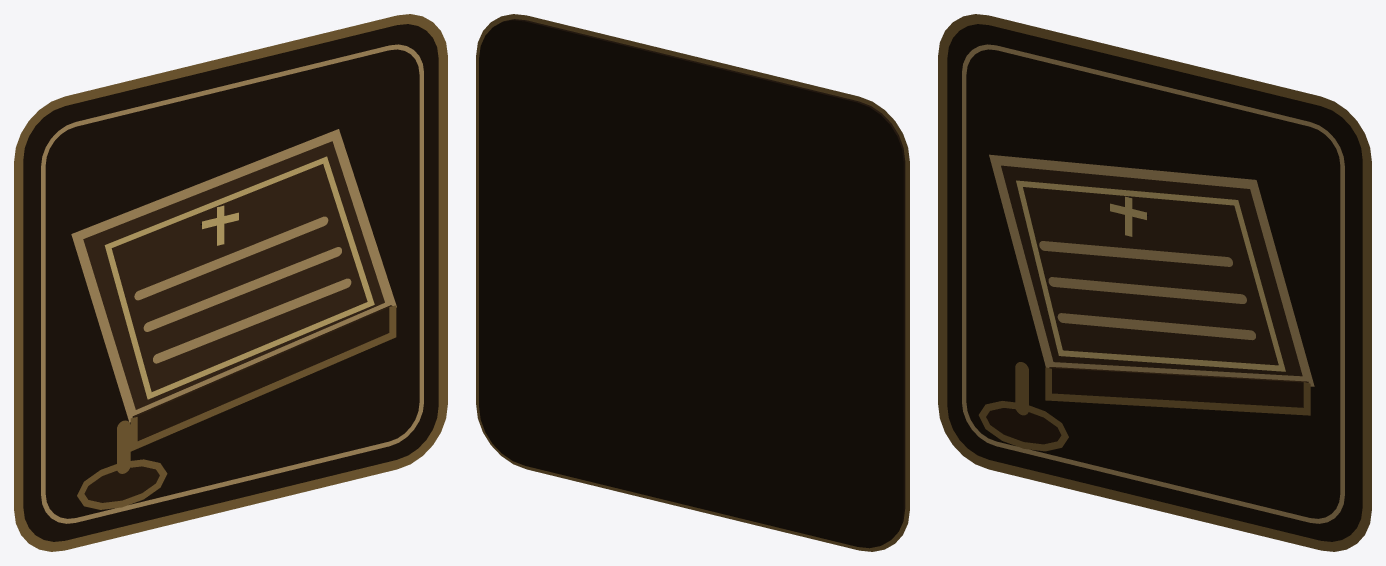
The model's file is obj-pechatnaya-doska.glb.
The picture shows the model from 3 angles, left to right: view 1: azimuth 30°, elevation 25°; view 2: azimuth 150°, elevation 25°; view 3: azimuth 330°, elevation 25°; orthographic projection.
Parts seen in each view (by area): view 1: obj-pechatnaya-doska; view 2: obj-pechatnaya-doska; view 3: obj-pechatnaya-doska.
Part boxes in pixels (x1,y1,x2,y2): obj-pechatnaya-doska: (14, 14, 447, 551); obj-pechatnaya-doska: (476, 14, 909, 551); obj-pechatnaya-doska: (938, 14, 1371, 551).
Bounding box in the file's own units: 0.3917 × 0.3917 × 0.0226.
